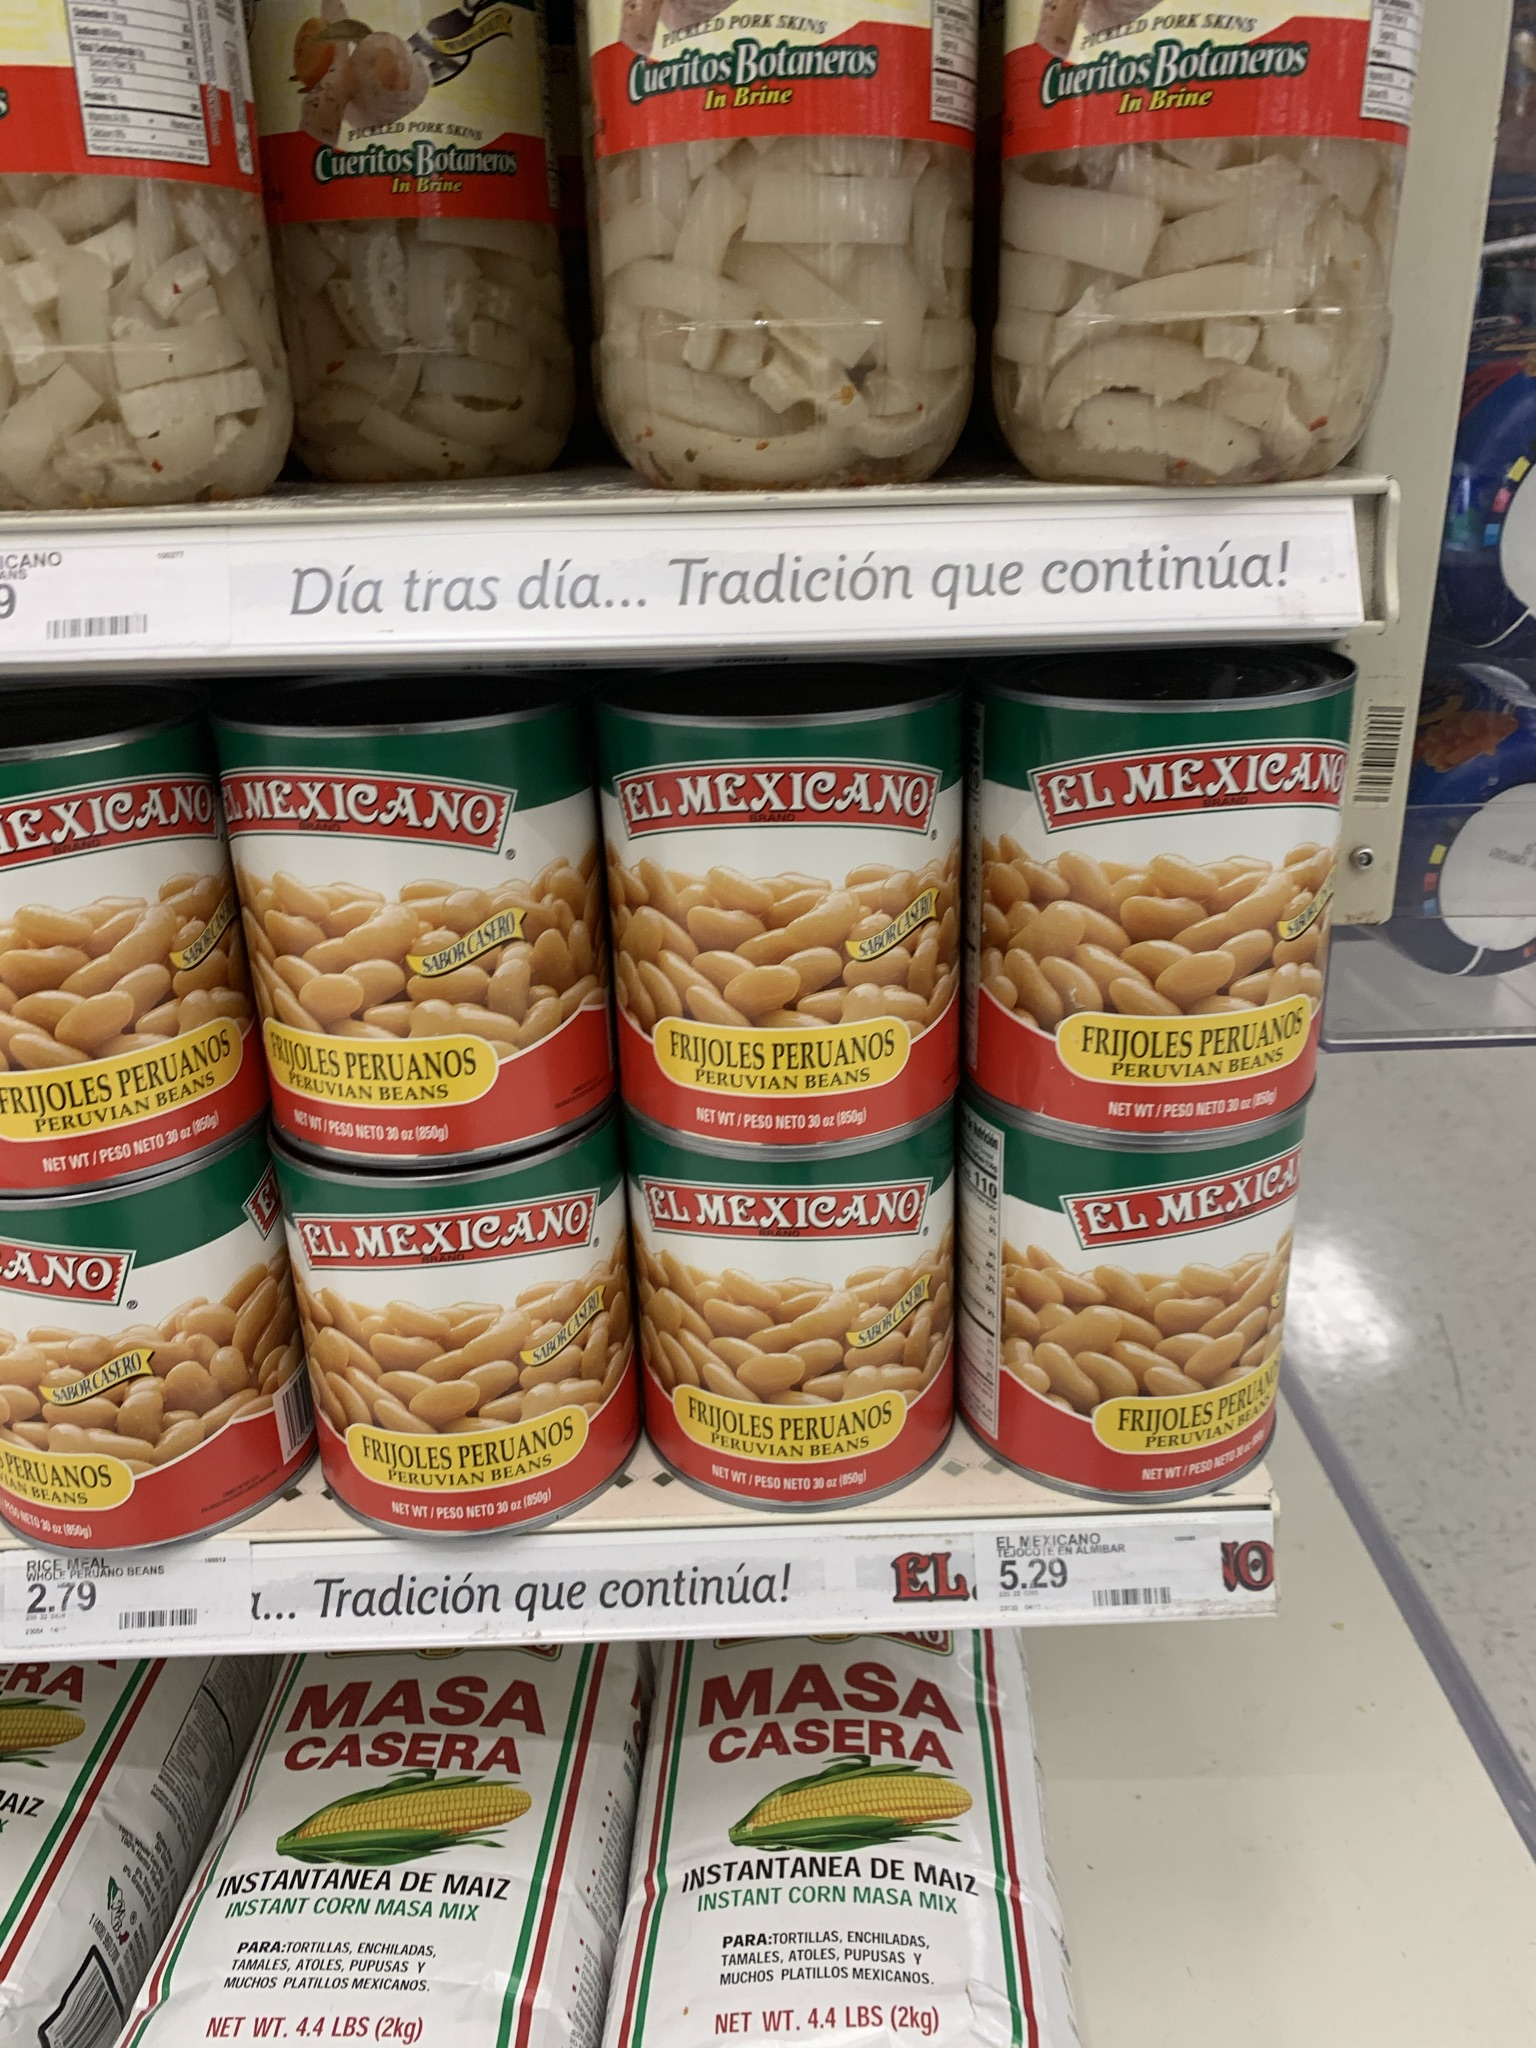can: (607, 718, 945, 1126), (1012, 703, 1326, 1090), (271, 727, 566, 1138), (983, 1143, 1294, 1485), (307, 1179, 600, 1493), (650, 1176, 936, 1471), (3, 763, 207, 1155), (11, 1209, 258, 1526)
